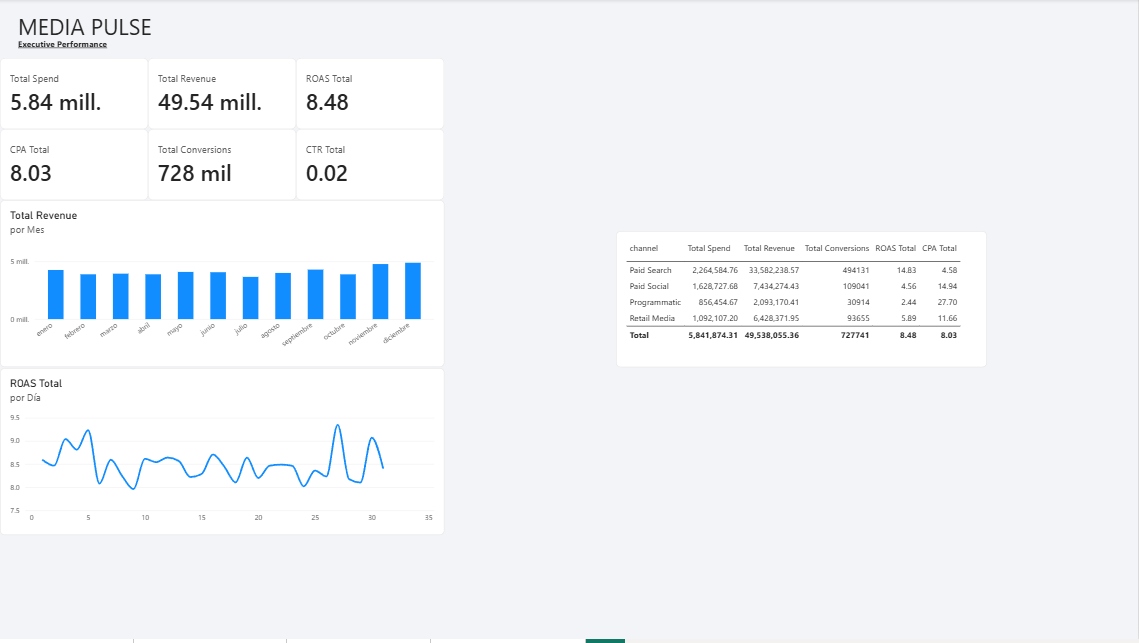

This screenshot's page, from the dashboard's own definition file:
{"tool":"powerbi","page":{"name":"Executive Performance","canvas":[1920,1080],"ordinal":0},"visuals":[{"type":"cardVisual","fields":{"Data":["campaign_performance.Total Spend"]},"box":[0,100,250,120],"z":0},{"type":"cardVisual","fields":{"Data":["campaign_performance.Total Revenue"]},"box":[250,100,250,120],"z":1000},{"type":"cardVisual","fields":{"Data":["campaign_performance.ROAS Total"]},"box":[500,100,250,120],"z":2000},{"type":"cardVisual","fields":{"Data":["campaign_performance.CPA Total"]},"box":[0,220,250,120],"z":3000},{"type":"cardVisual","fields":{"Data":["campaign_performance.Total Conversions"]},"box":[250,220,250,120],"z":4000},{"type":"cardVisual","fields":{"Data":["campaign_performance.CTR Total"]},"box":[500,220,250,120],"z":5000},{"type":"lineChart","fields":{"Category":["campaign_performance.date.Variación.Jerarquía de fechas.Año","campaign_performance.date.Variación.Jerarquía de fechas.Trimestre","campaign_performance.date.Variación.Jerarquía de fechas.Mes","campaign_performance.date.Variación.Jerarquía de fechas.Día"],"Y":["campaign_performance.ROAS Total"]},"box":[0,622,750,282.2],"z":6000},{"type":"clusteredColumnChart","fields":{"Category":["campaign_performance.date.Variación.Jerarquía de fechas.Año","campaign_performance.date.Variación.Jerarquía de fechas.Trimestre","campaign_performance.date.Variación.Jerarquía de fechas.Mes","campaign_performance.date.Variación.Jerarquía de fechas.Día"],"Y":["campaign_performance.Total Revenue"]},"box":[0,340,750,282],"z":7000},{"type":"tableEx","fields":{"Values":["campaign_performance.channel","campaign_performance.Total Spend","campaign_performance.Total Revenue","campaign_performance.Total Conversions","campaign_performance.ROAS Total","campaign_performance.CPA Total"]},"box":[1040,392,626,230],"z":8000},{"type":"textbox","box":[30,20,236.7,65],"z":9000},{"type":"textbox","box":[30,65,160,33],"z":10000}]}

Visuals, with their boxes in screenshot pixels (x1, y1, x2, y2), scaled from the page's 1920x1080 canvas onto the 1139x643 screenshot:
cardVisual - campaign_performance.Total Spend: (left=0, top=60, right=148, bottom=131)
cardVisual - campaign_performance.Total Revenue: (left=148, top=60, right=297, bottom=131)
cardVisual - campaign_performance.ROAS Total: (left=297, top=60, right=445, bottom=131)
cardVisual - campaign_performance.CPA Total: (left=0, top=131, right=148, bottom=202)
cardVisual - campaign_performance.Total Conversions: (left=148, top=131, right=297, bottom=202)
cardVisual - campaign_performance.CTR Total: (left=297, top=131, right=445, bottom=202)
lineChart - campaign_performance.date.Variación.Jerarquía de fechas.Año x campaign_performance.date.Variación.Jerarquía de fechas.Trimestre: (left=0, top=370, right=445, bottom=538)
clusteredColumnChart - campaign_performance.date.Variación.Jerarquía de fechas.Año x campaign_performance.date.Variación.Jerarquía de fechas.Trimestre: (left=0, top=202, right=445, bottom=370)
tableEx - campaign_performance.channel x campaign_performance.Total Spend: (left=617, top=233, right=988, bottom=370)
textbox: (left=18, top=12, right=158, bottom=51)
textbox: (left=18, top=39, right=113, bottom=58)
